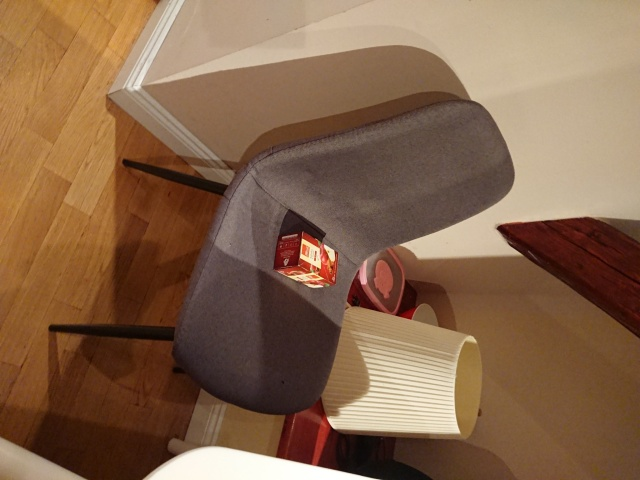Franck Apple Cinnamon Tea 60g: (271, 228, 341, 291)
